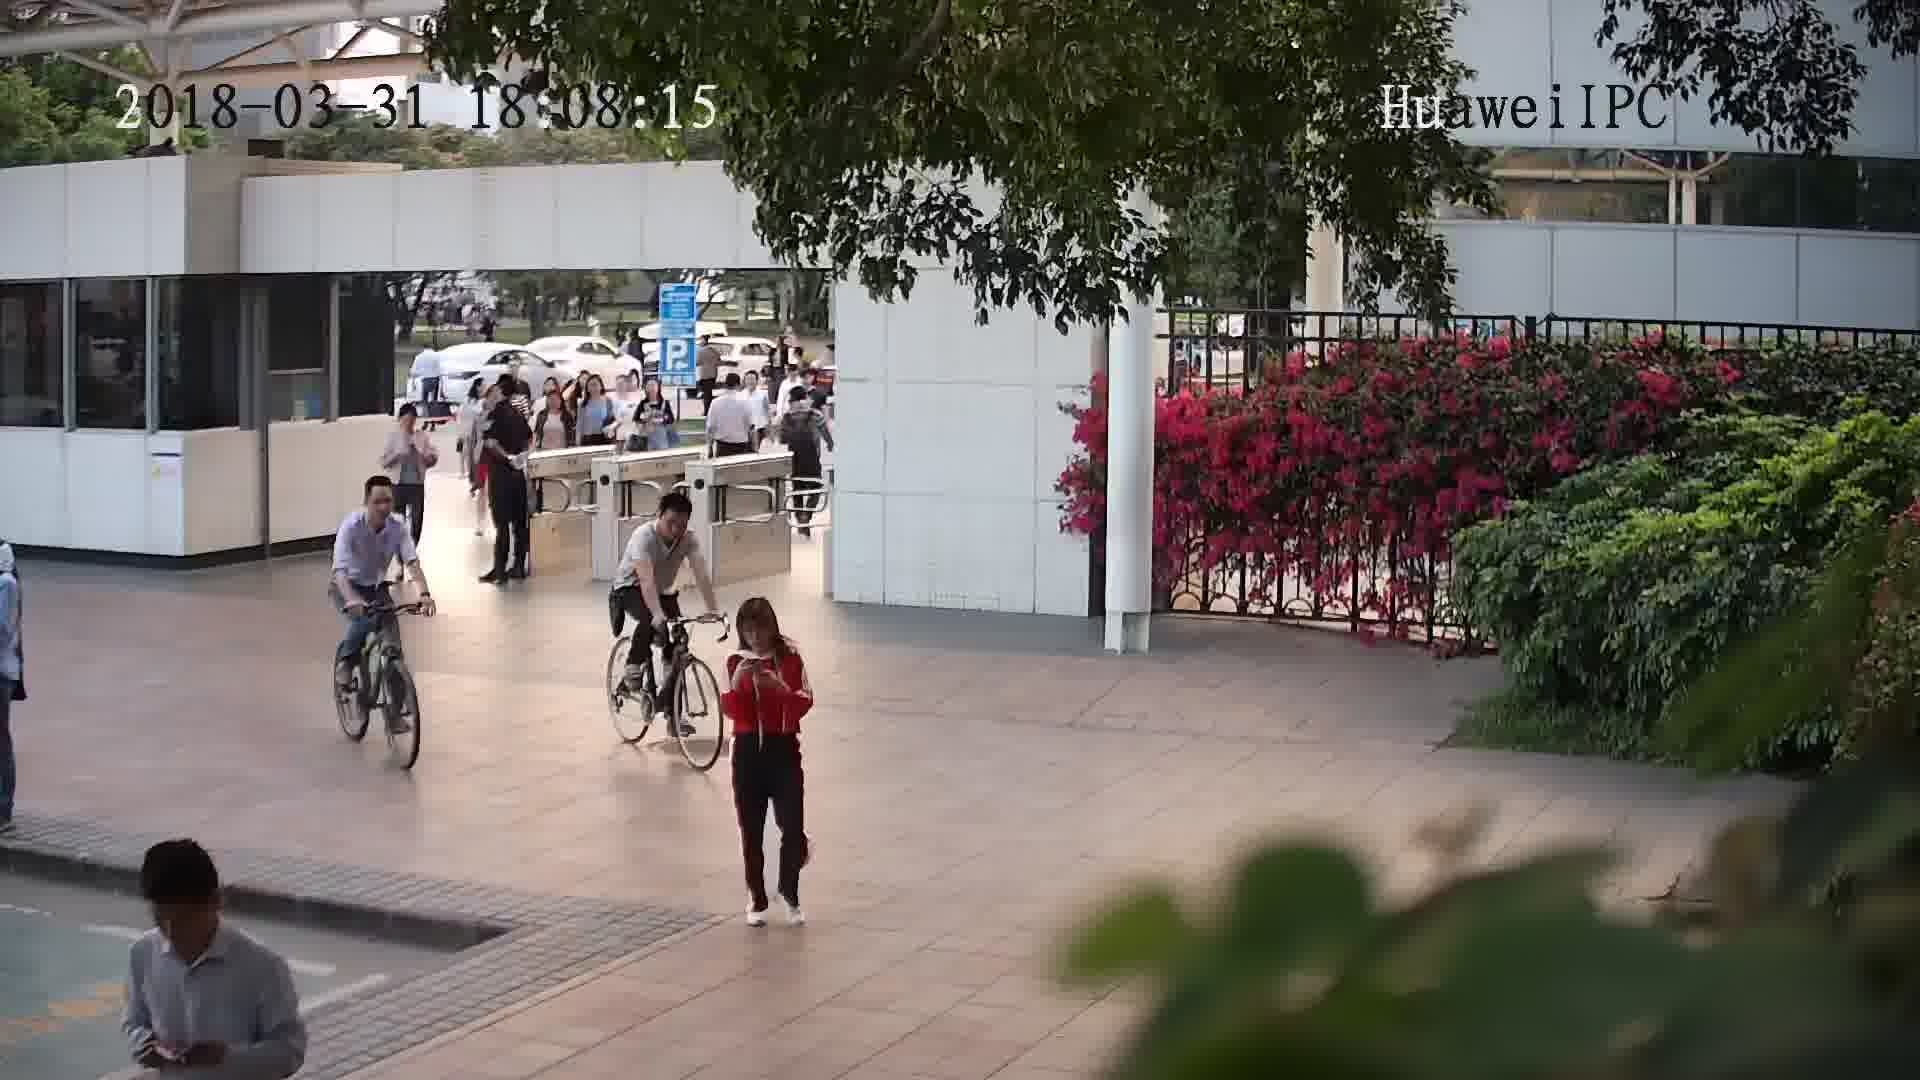face: (145, 888, 215, 958), (737, 616, 776, 654)
person: (124, 834, 282, 986), (722, 593, 803, 679), (342, 474, 403, 540), (632, 489, 692, 556), (381, 399, 431, 449), (480, 377, 529, 426), (777, 384, 820, 435), (707, 367, 751, 410), (632, 370, 674, 411), (536, 387, 576, 427), (578, 371, 611, 418), (738, 368, 770, 410)
